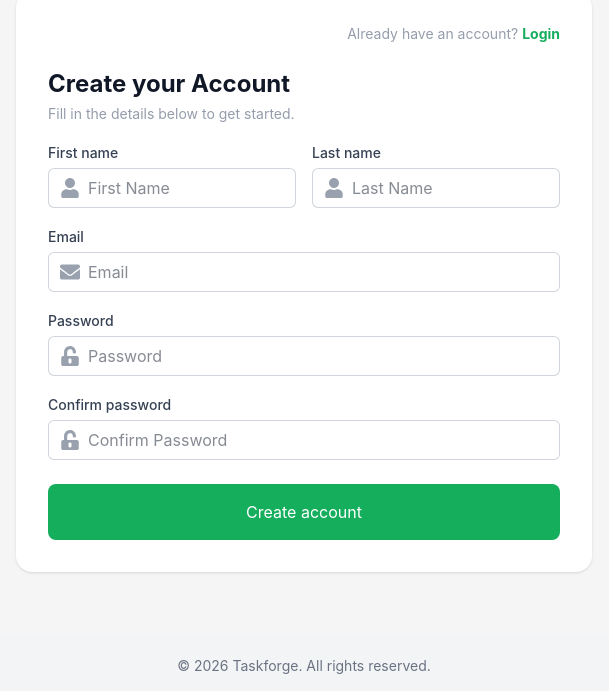
Register page › shows validation errors returned by the backend
In the field labelled "First name": (172, 188) left=48, top=168, right=296, bottom=208, type "Ada"
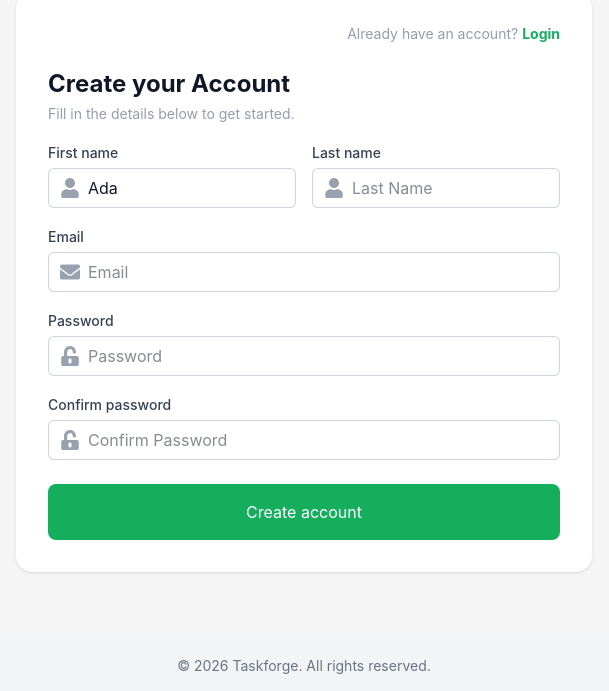
In the field labelled "Last name": (436, 188) left=312, top=168, right=560, bottom=208, type "Lovelace"
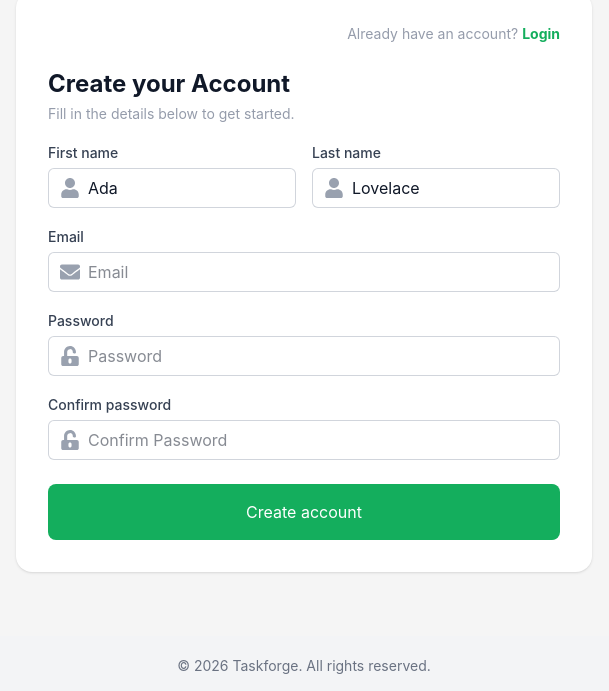
In the field labelled "Email": (304, 272) left=48, top=252, right=560, bottom=292, type "ada@example.com"
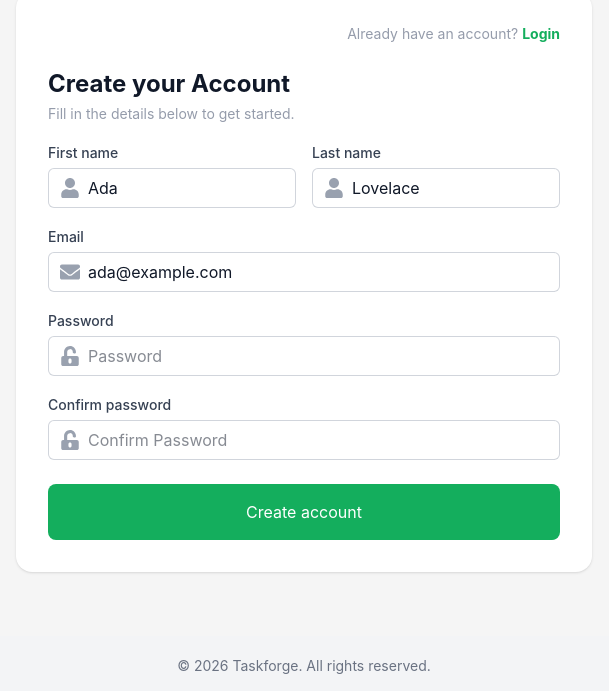
In the password field labelled "Password": (304, 356) left=48, top=336, right=560, bottom=376, type "secure-password"
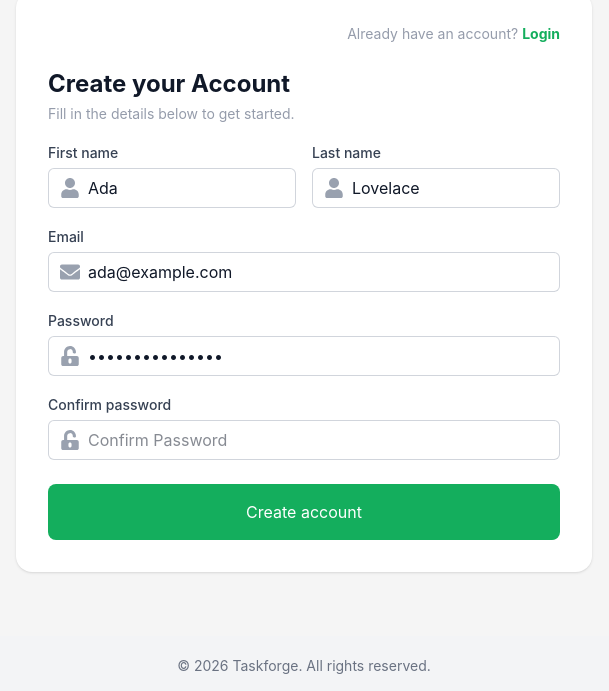
In the password field labelled "Confirm password": (304, 440) left=48, top=420, right=560, bottom=460, type "secure-password"
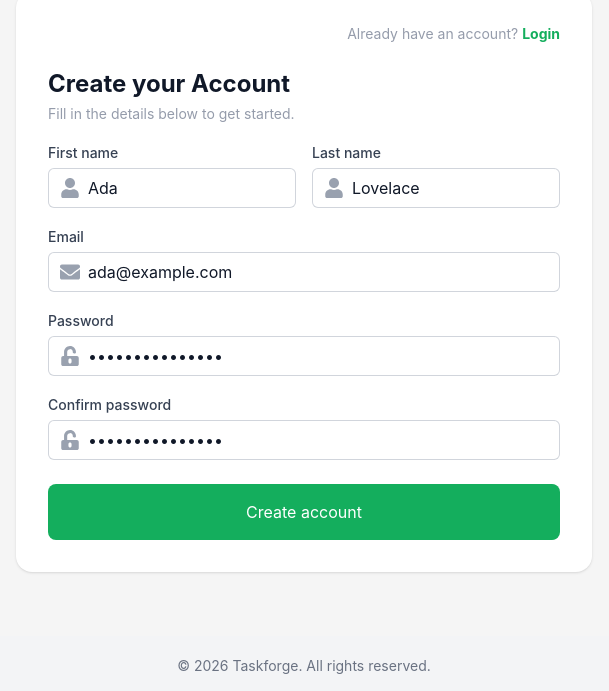
Click the button "Create account": click(304, 512) left=48, top=484, right=560, bottom=540
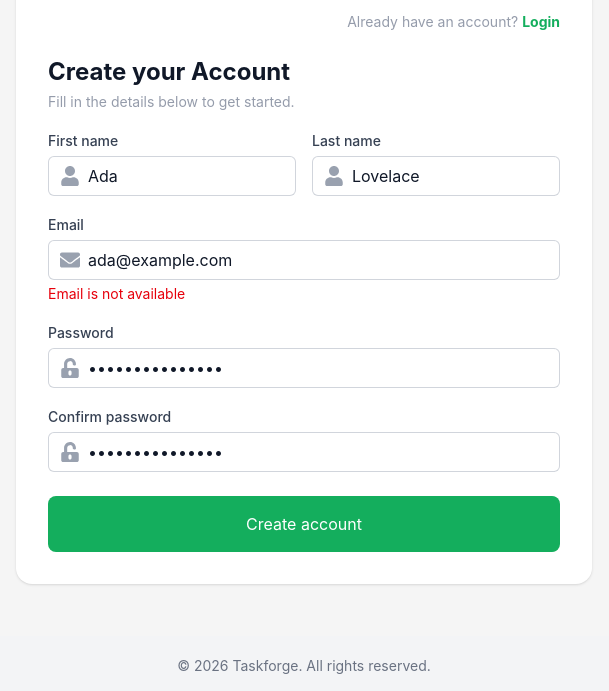
Expected: the text "Email is not available" is shown, left=48, top=285, right=185, bottom=302
